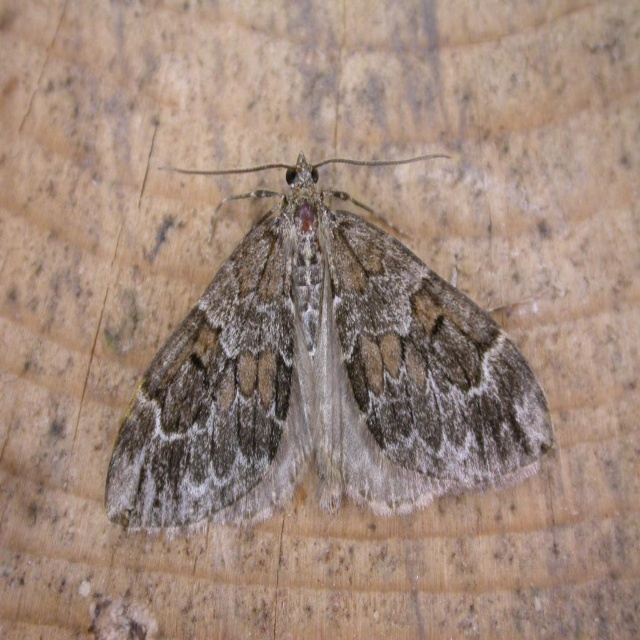Butterfly: (89, 110, 561, 519)
